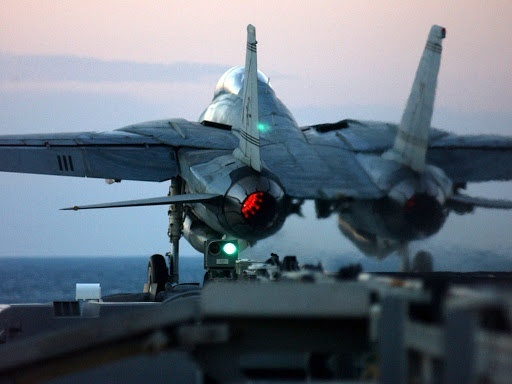F14: (1, 23, 512, 293)
